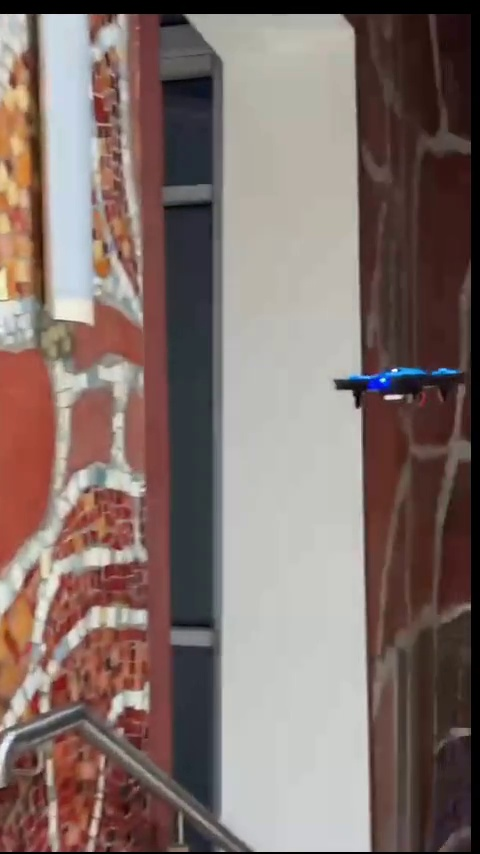drone: (330, 367, 471, 405)
